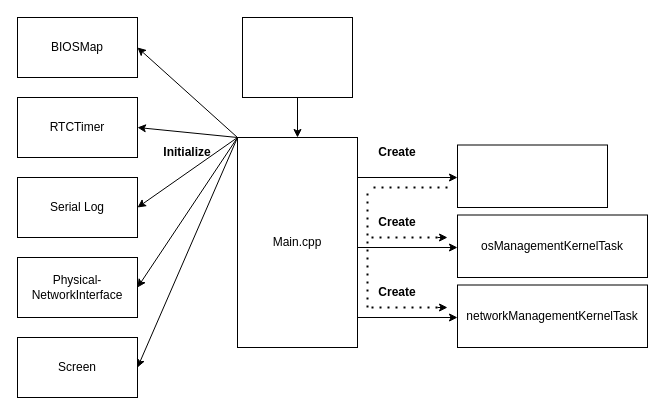
Some shapes in this 665 by 415 pixel diagram are drawn without their labels. Here are the shapes that lost their labels. From the top down, the centre of each, then its label:
At point 297,57: "Boot Sector Code".
At point 532,176: "CpuCore".
